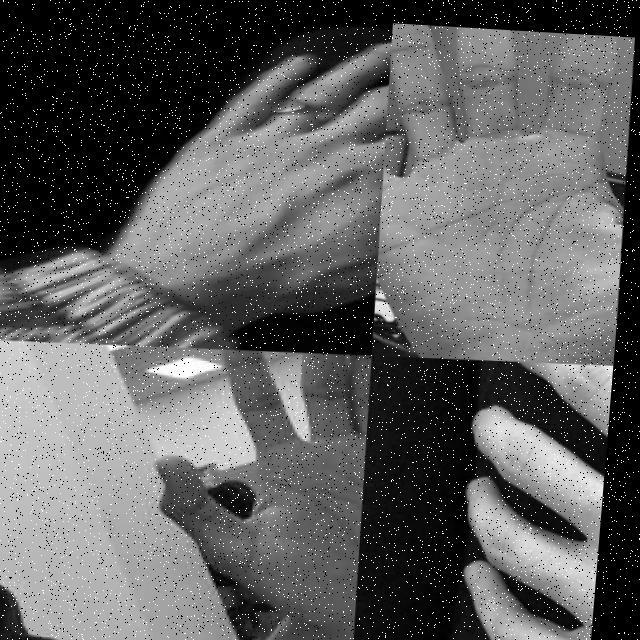no-gloves: (98, 20, 396, 335), (370, 18, 640, 360), (356, 344, 619, 640), (148, 339, 381, 627)
